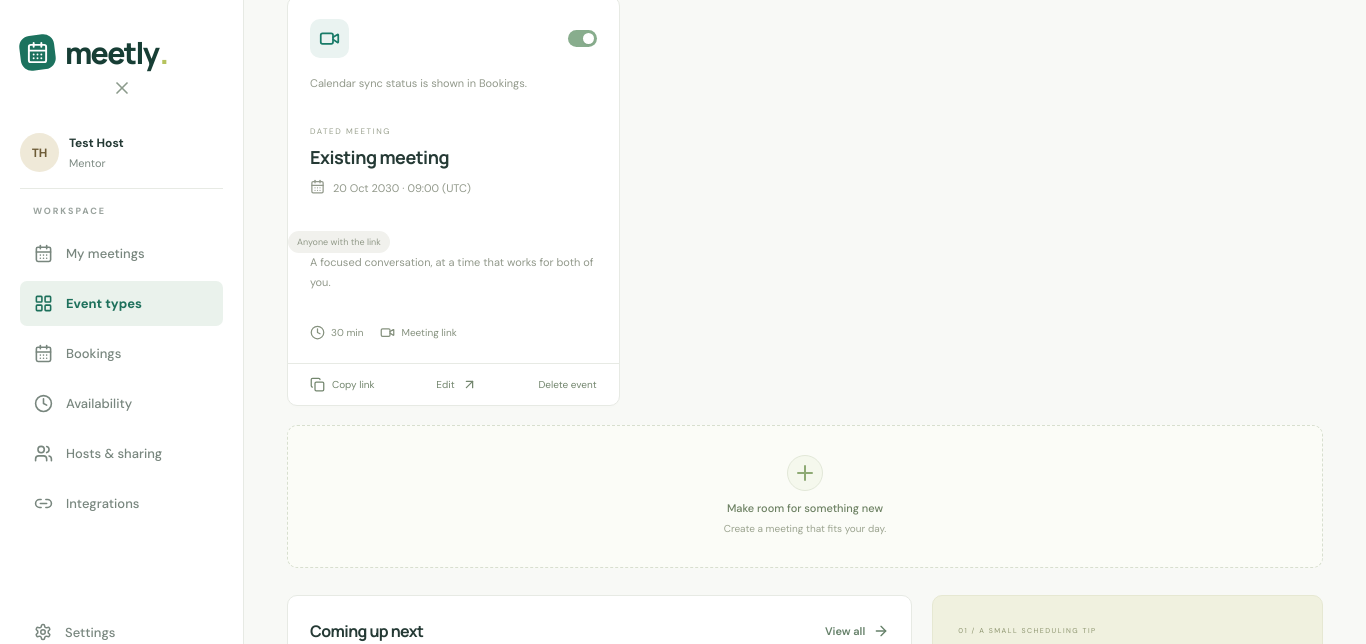
Test case: editing hydrates selected invitee and round-robin host chips with emails
(page scrolled)
Click the button "Edit" at x=457, y=385, box left=436, top=377, right=477, bottom=392
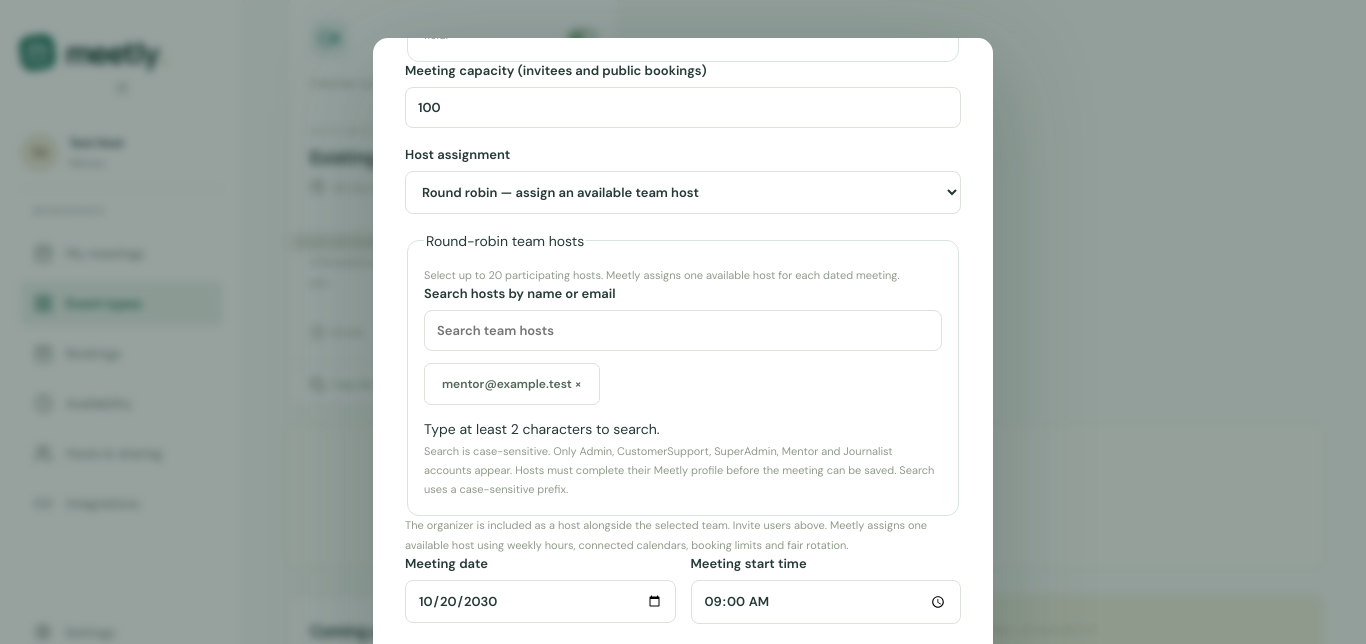
Result: the button "mentor@example.test ×" is shown at left=424, top=363, right=600, bottom=405
